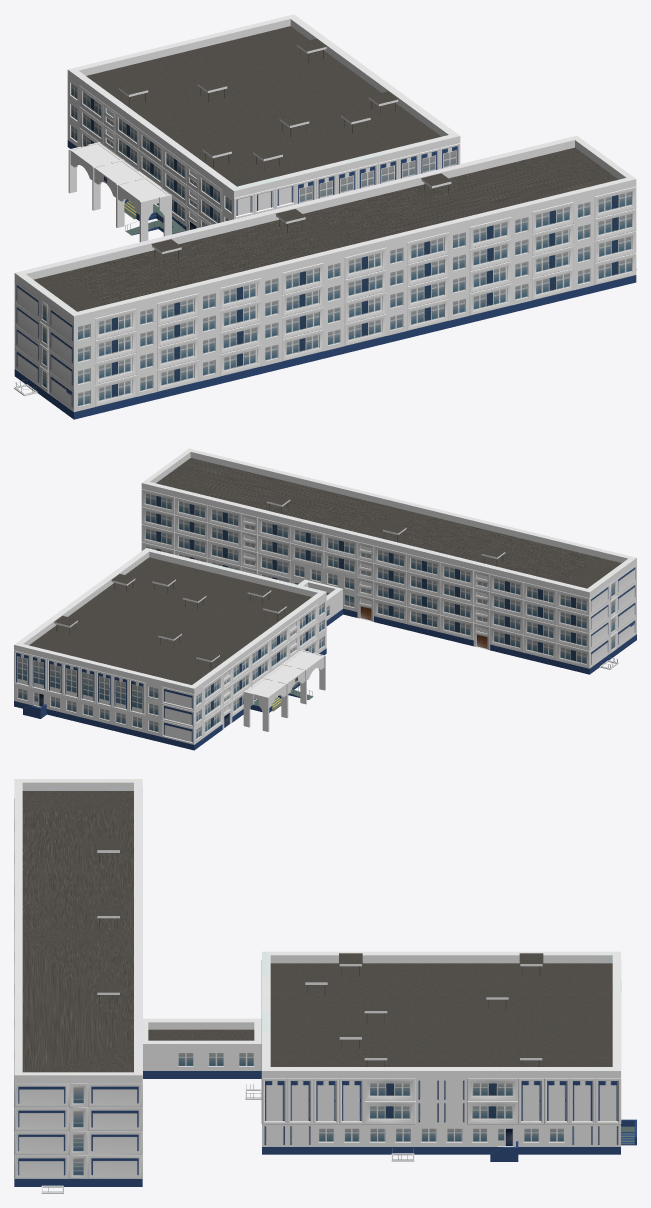
File: school.glb
3 views of the same model, one above another, from view 1: azimuth 30°, elevation 25°; view 2: azimuth 150°, elevation 25°; view 3: azimuth 270°, elevation 25° (orthographic). The views are drawn at different scales.
Visible parts, largest first — view 1: Object_4, Object_7, Object_10, Object_9, Object_6, Object_3; view 2: Object_4, Object_7, Object_10, Object_9, Object_5, Object_6, Object_3; view 3: Object_7, Object_4, Object_5, Object_9, Object_6, Object_3.
Part boxes in pixels (x1,y1,x2,y2): Object_4: (14, 135, 636, 419); Object_7: (67, 14, 460, 230); Object_10: (68, 142, 171, 241); Object_9: (118, 38, 451, 262); Object_6: (14, 44, 636, 396); Object_3: (124, 199, 186, 235); Object_4: (141, 448, 636, 674); Object_7: (14, 548, 326, 750); Object_10: (243, 649, 325, 731); Object_9: (54, 495, 505, 668); Object_5: (298, 579, 342, 625); Object_6: (54, 499, 618, 669); Object_3: (23, 681, 313, 718); Object_7: (261, 951, 621, 1154); Object_4: (14, 779, 142, 1186); Object_5: (143, 1018, 261, 1078); Object_9: (97, 839, 543, 1066); Object_6: (41, 850, 542, 1193); Object_3: (490, 1119, 636, 1161).
Size of the model in its own units: 2.6 by 0.4606 by 2.21.
Materials: 8 (6 with a texture image).
